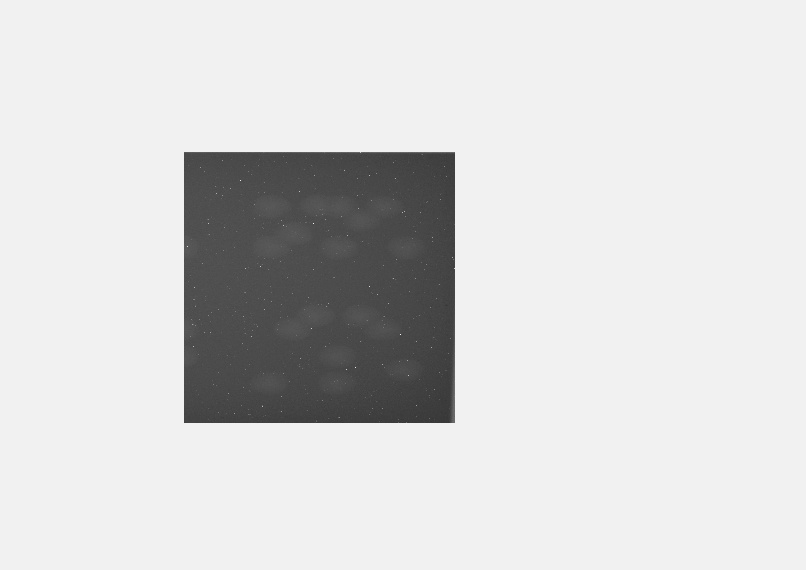bubble: (184, 236, 200, 261)
cluster: (252, 303, 422, 394), (251, 193, 423, 259), (184, 319, 199, 367)
